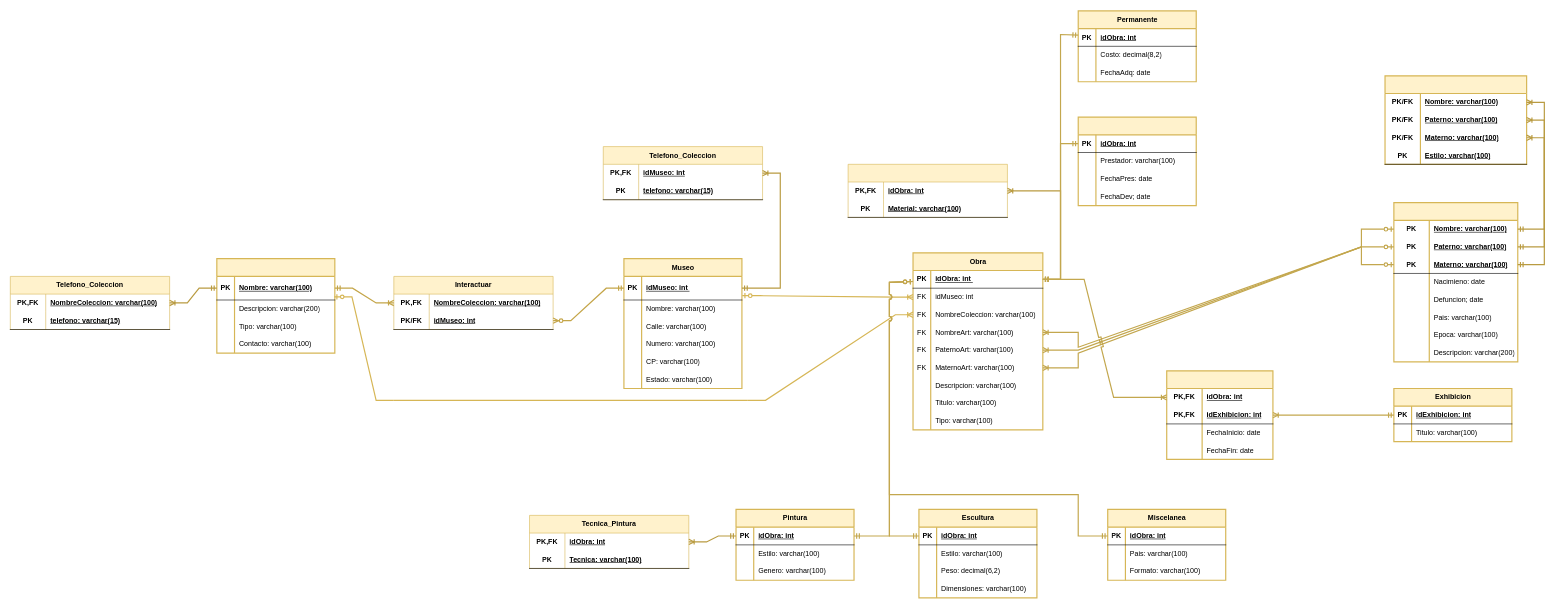
Some shapes in this 1561 by 608 pixel diagram are drawn without their labels. The shapes that lost their labels are listed below. From the top down, each one's box as (x1, y1, x2, y2) in pixels, then its label:
(1384, 75, 1527, 165): Estilo_Artista
(1077, 116, 1197, 206): Prestada
(848, 164, 1007, 217): Material_Obra
(1393, 202, 1518, 362): Artista
(216, 258, 335, 353): Coleccion
(1166, 370, 1273, 460): Exhibir
